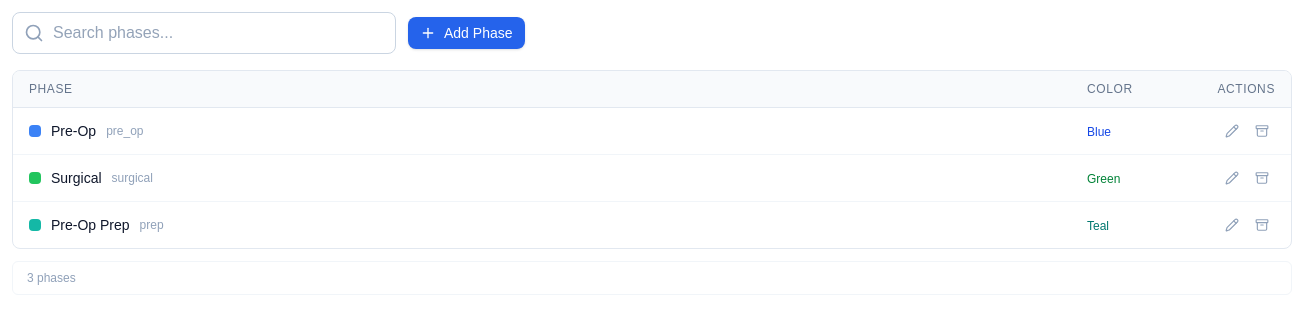
PhaseLibrary › search › shows filtered count in summary footer
Type "Pre" into the field with placeholder "Search phases..." at {"x": 204, "y": 33}, box [12,12,396,54]
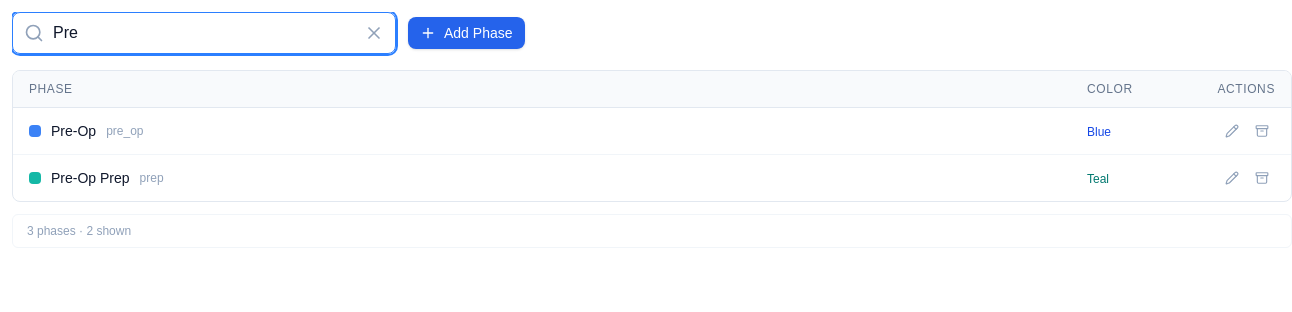
Expected: the text "3 phases · 2 shown" is shown, [12,214,1291,248]
